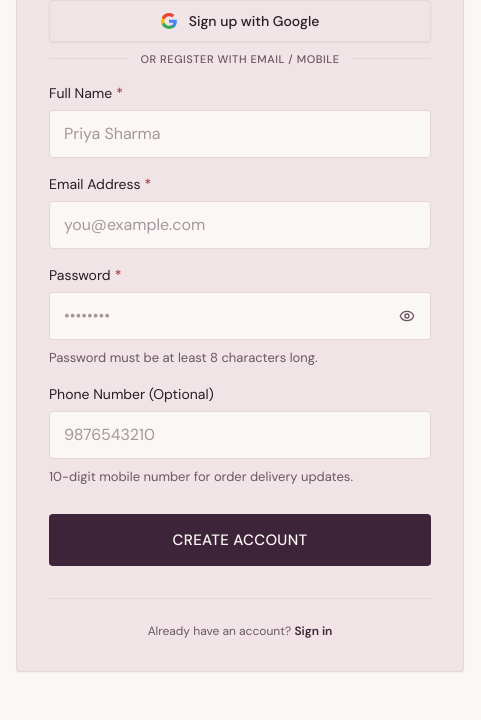
it: FE-25: Sign up and login pages › Signup Page › validates required fields, password rules, and displays helper text matching Member B rules
The image size is (481, 720).
(page scrolled)
Expected: the text "Password must be at least 8 characters long." is shown, x1=49 y1=350 x2=318 y2=366
Click the button with test id "signup-submit-btn".
click(240, 540)  # box x1=49 y1=514 x2=431 y2=566
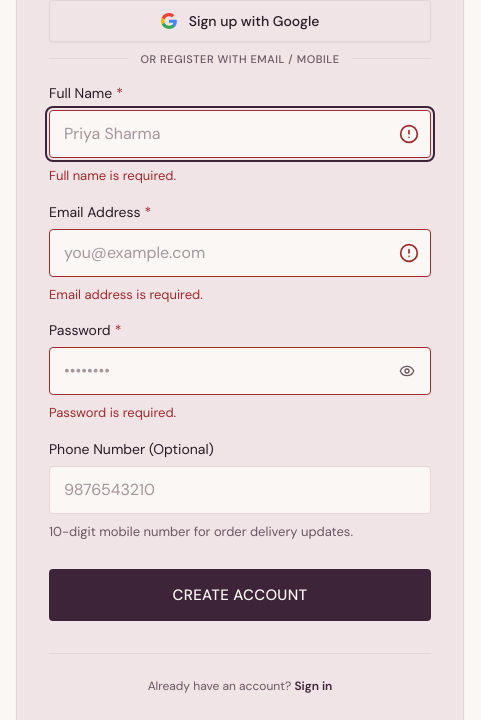
Expected: the text "Full name is required." is shown, x1=49 y1=166 x2=176 y2=186
